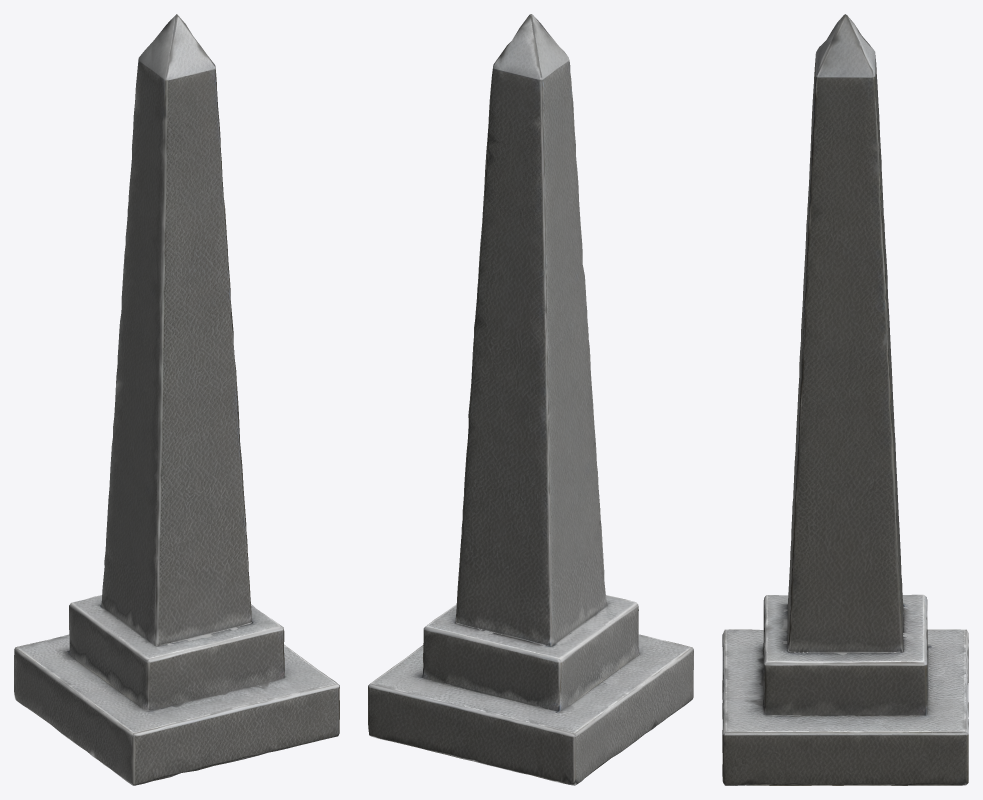
Rendered from Obelisk.fbx.
The picture shows the model from 3 angles, left to right: view 1: azimuth 30°, elevation 25°; view 2: azimuth 150°, elevation 25°; view 3: azimuth 270°, elevation 25°; orthographic projection. The views are drawn at different scales.
Parts seen in each view (by area): view 1: texture_mapping; view 2: texture_mapping; view 3: texture_mapping.
Boxes of the visible parts, box(x1,y1,x2,y2) form: texture_mapping: box(14, 14, 339, 785); texture_mapping: box(368, 14, 693, 785); texture_mapping: box(722, 14, 968, 785).
Bounding box in the file's own units: 0.3109 × 0.3102 × 0.9999.
Materials: 1 (1 with a texture image).
